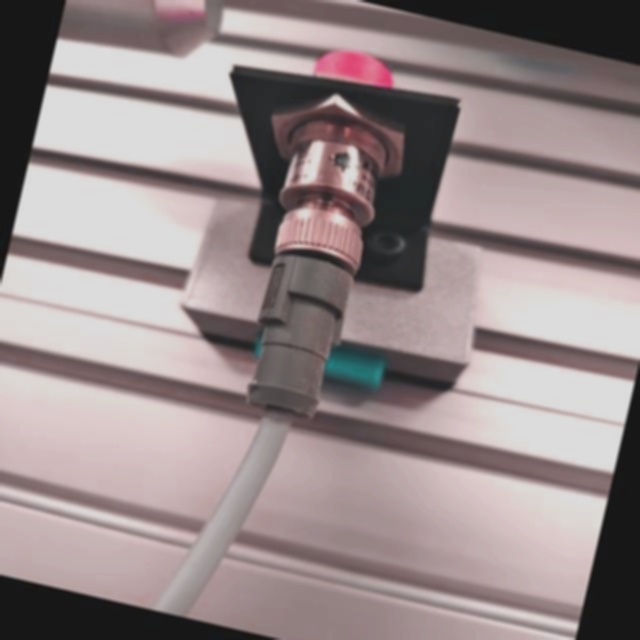inductive sensor: (140, 9, 549, 459)
